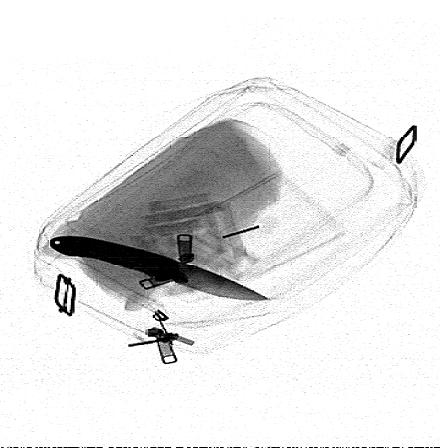Knife: (48, 234, 274, 302)
